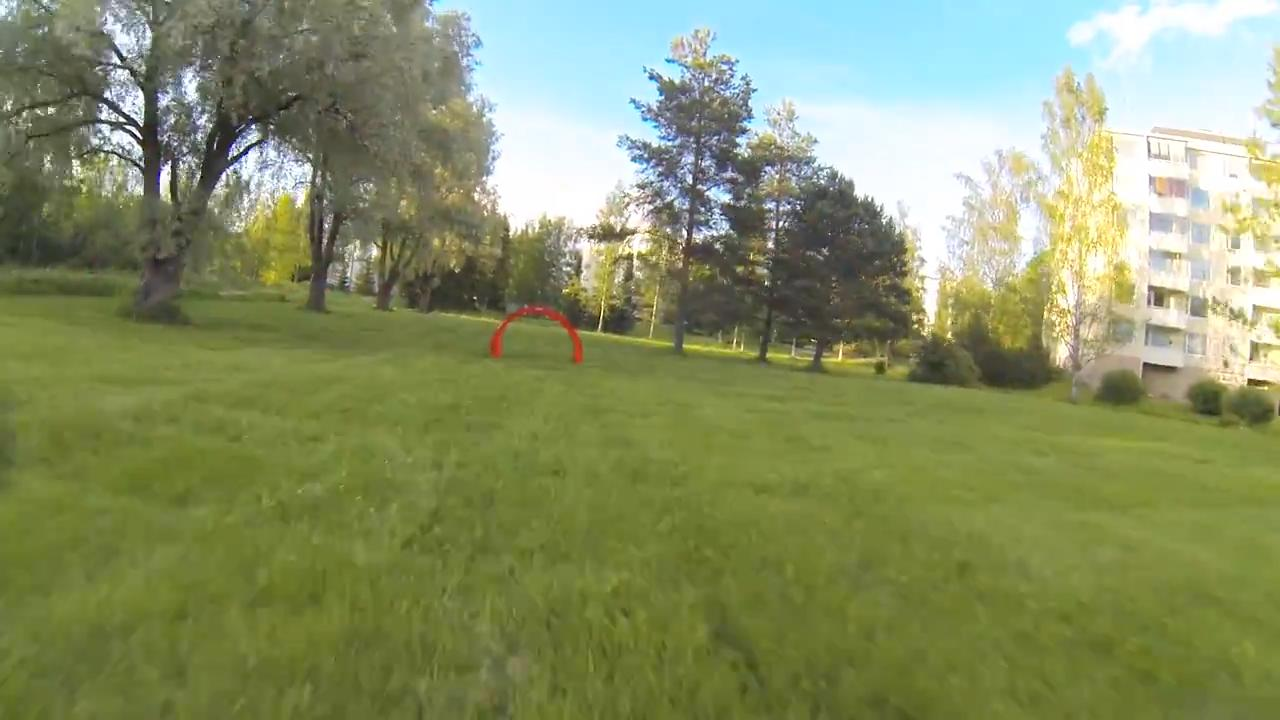gate: (489, 303, 583, 365)
